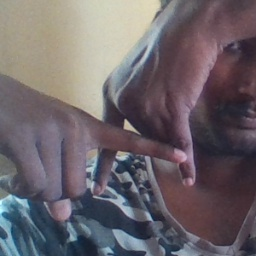H: (57, 81, 206, 206)
